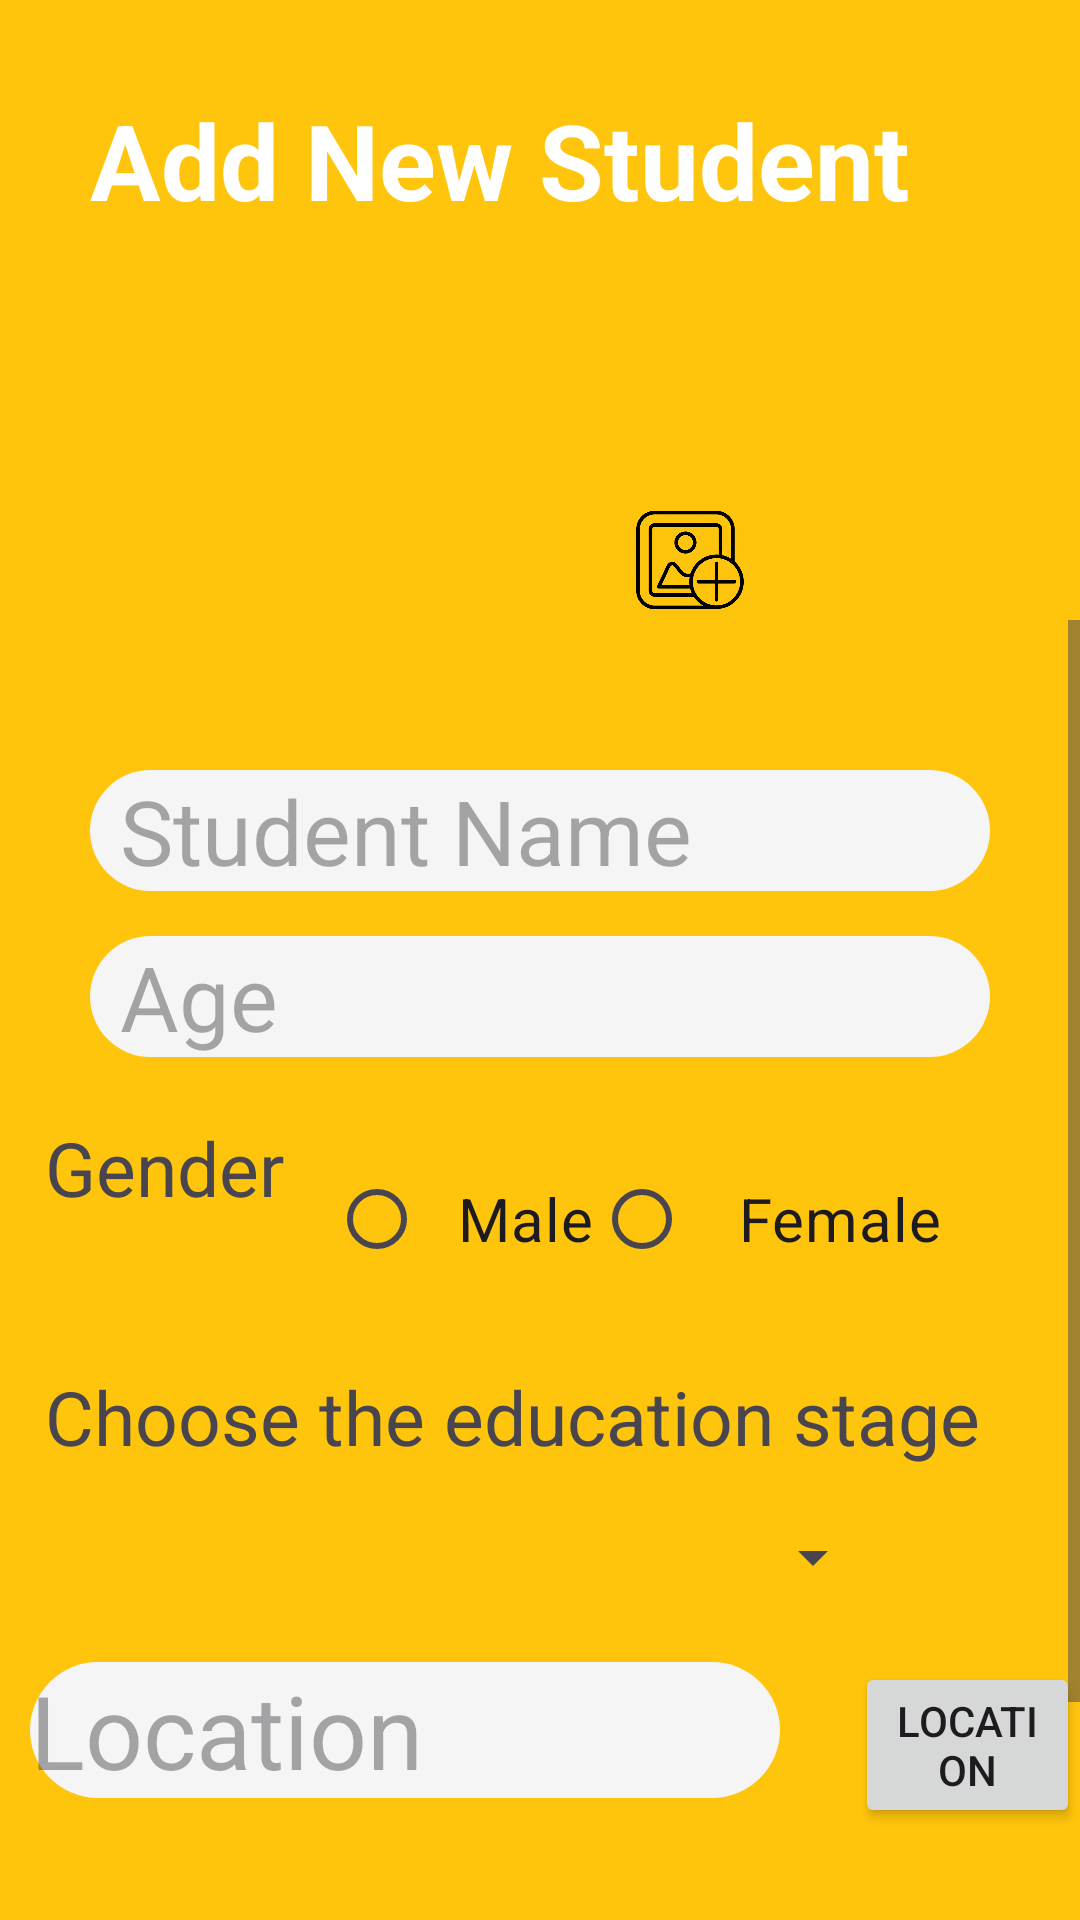

Locate icon controls on the screen. Image size 1080*1920, boxes as (x1, y1, x2, y2).
imagetake: (636, 511, 744, 609)
